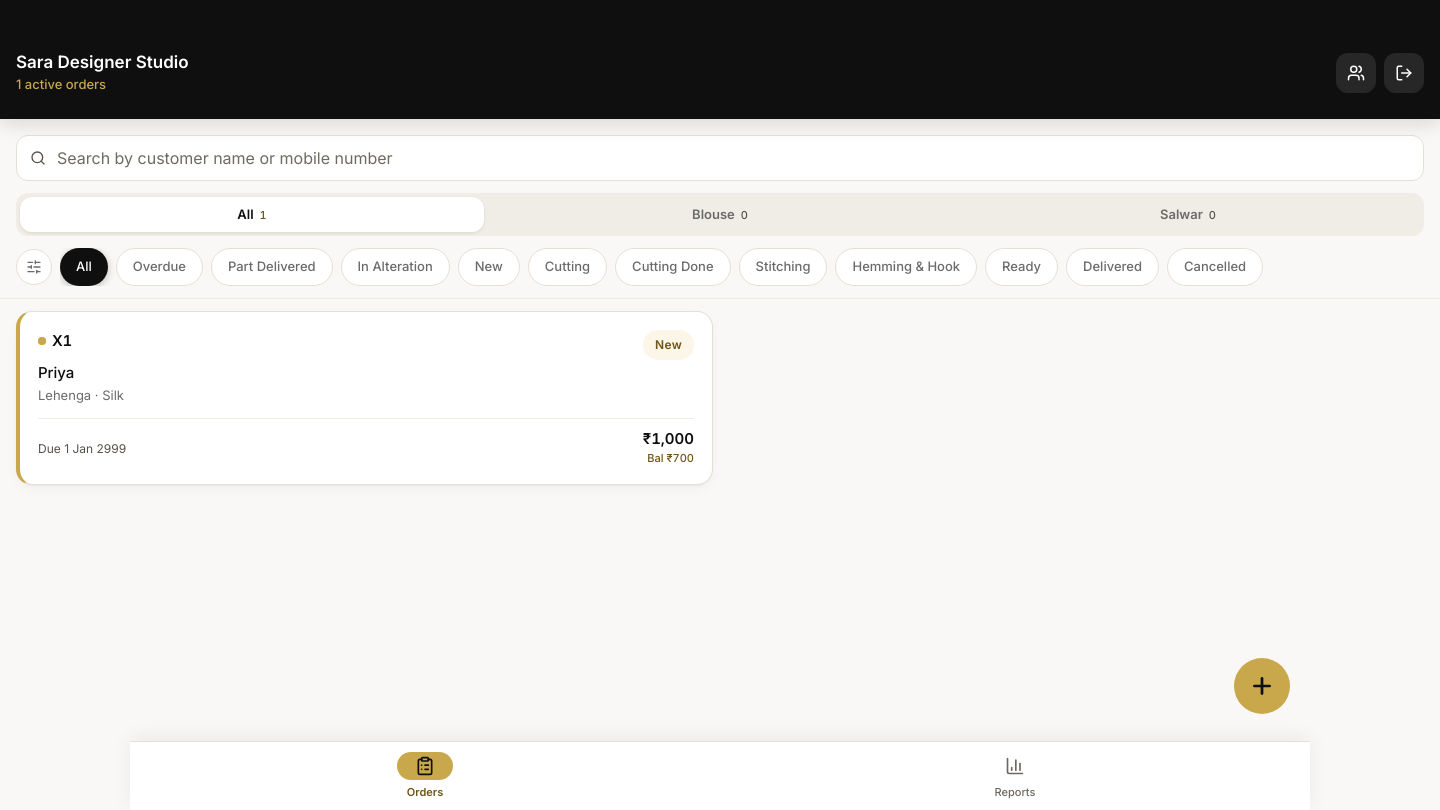
Test: OrdersBody › Blouse / Salwar tabs › keeps an order of some other dress type visible under All
Expected: the text "X1" is shown, 52,330 -> 72,352
Expected: the tab "All1" is shown, 20,197 -> 484,232
Click the tab "Blouse0" at point(720, 215), box 488,197 -> 952,232
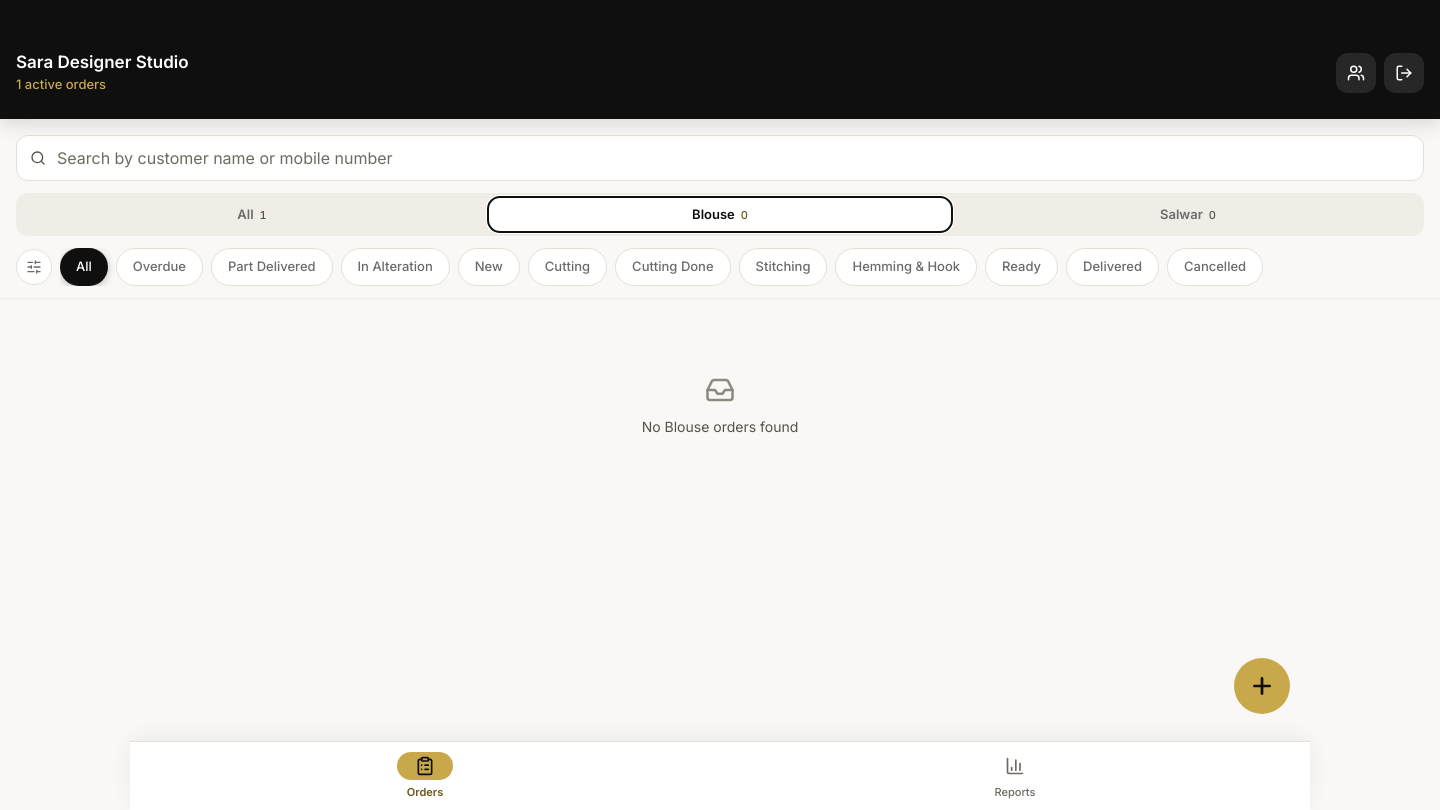
Expected: the button "X1" is gone
